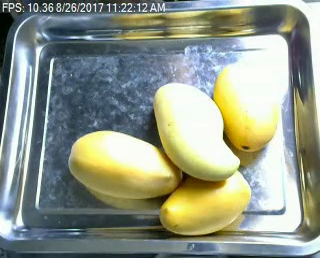Mango: (153, 82, 239, 181), (67, 130, 181, 198), (159, 167, 252, 235), (215, 65, 277, 154)
